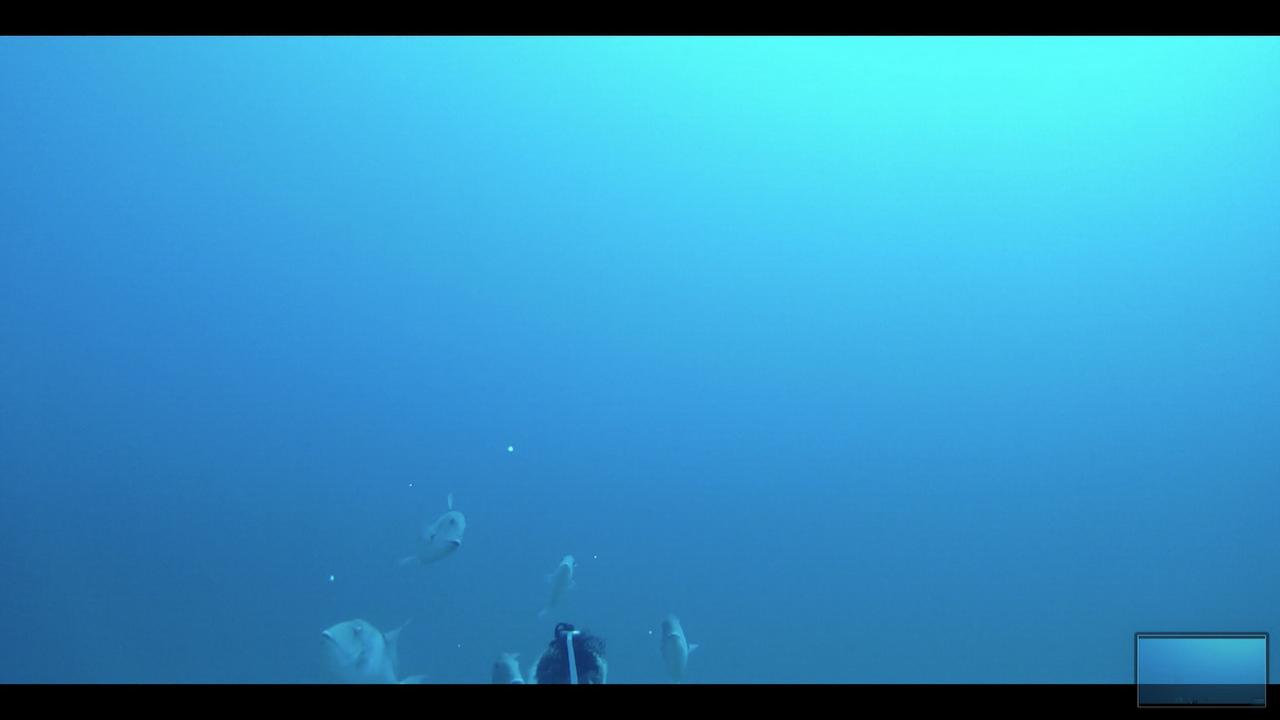balistes: (317, 610, 429, 682), (398, 488, 475, 572), (651, 610, 702, 679), (539, 551, 581, 610), (486, 643, 532, 681)
